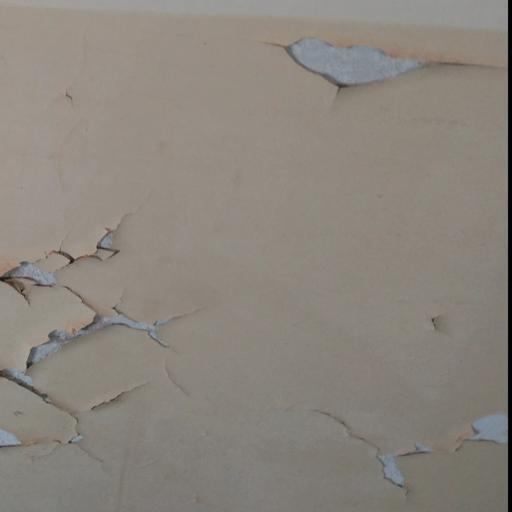peeling: (0, 206, 204, 467), (246, 18, 512, 110), (305, 374, 512, 485), (412, 305, 453, 343)
